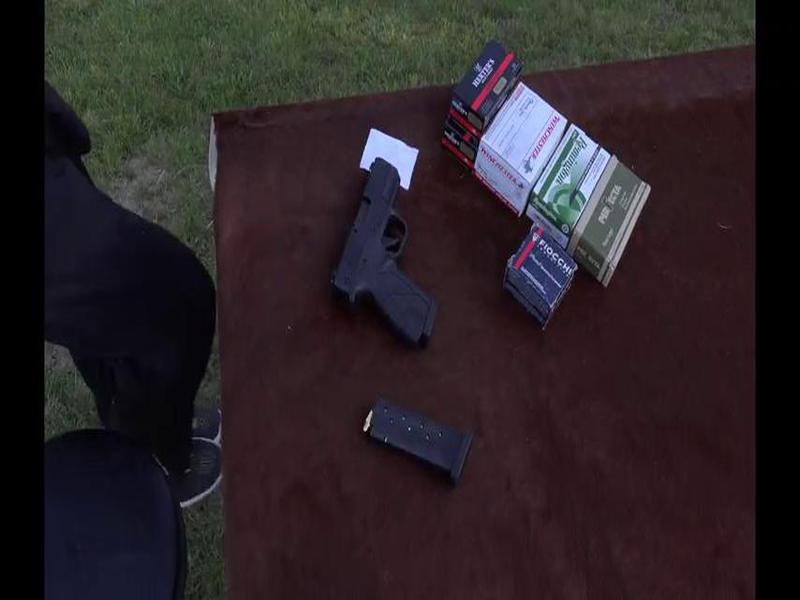Pistola: (314, 141, 447, 349)
